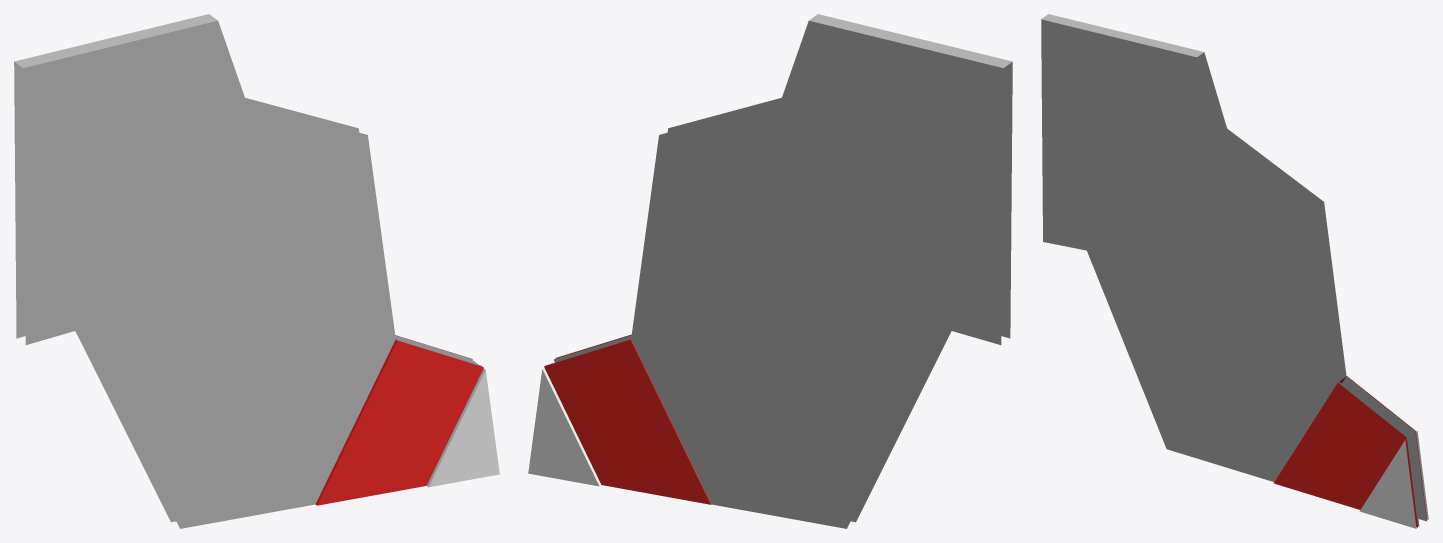
Rendered from MidleTopTop.fbx.
The picture shows the model from 3 angles, left to right: view 1: azimuth 30°, elevation 25°; view 2: azimuth 150°, elevation 25°; view 3: azimuth 330°, elevation 25°; orthographic projection. The views are drawn at different scales.
Parts seen in each view (by area): view 1: Plane.059; view 2: Plane.059; view 3: Plane.059.
Boxes of the visible parts, bbox=[...] form: Plane.059: bbox=[14, 14, 499, 528]; Plane.059: bbox=[528, 14, 1012, 528]; Plane.059: bbox=[1041, 14, 1428, 528].
Bounding box in the file's own units: 2.15 × 2.25 × 0.1205.
